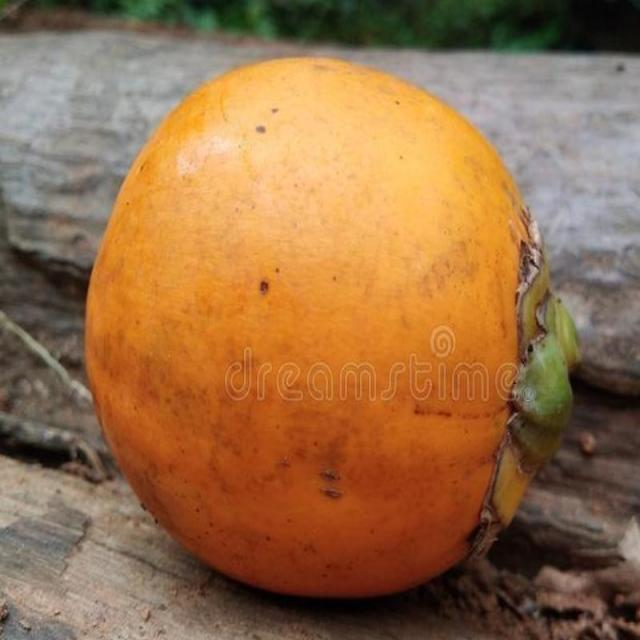good: (83, 58, 581, 604)
